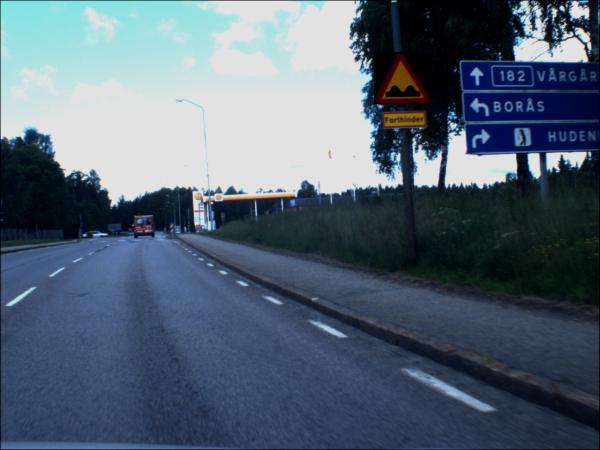WARNING: (375, 53, 433, 106)
